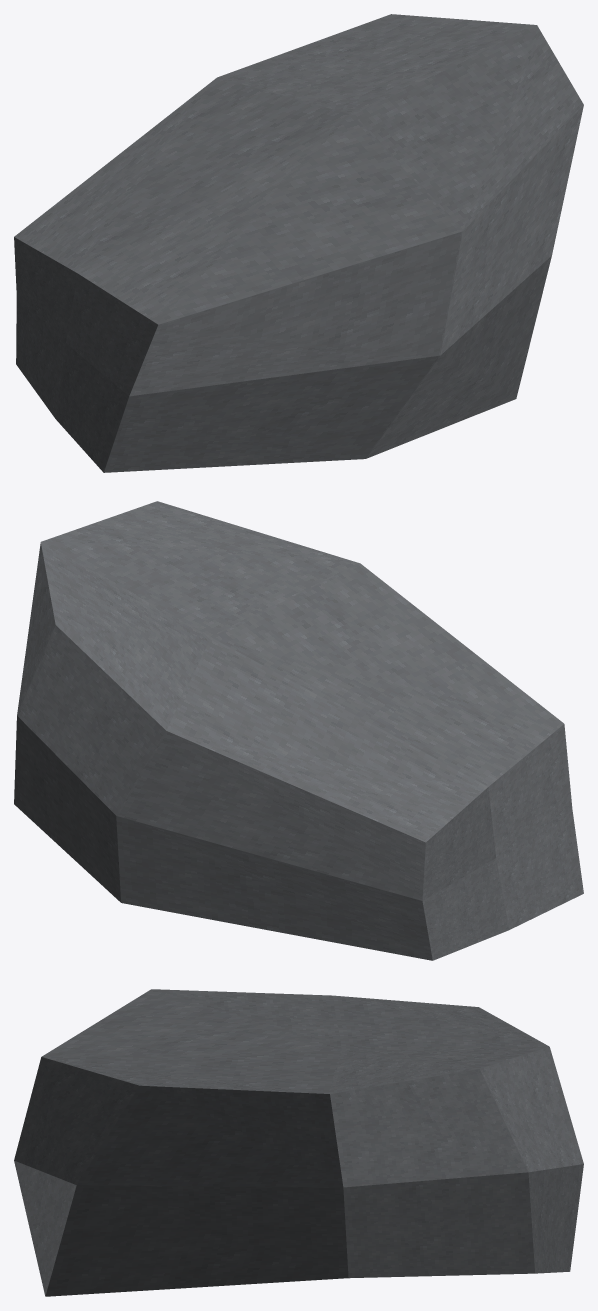
The model's file is Rock4.glb.
3 views of the same model, one above another, from view 1: azimuth 30°, elevation 25°; view 2: azimuth 150°, elevation 25°; view 3: azimuth 270°, elevation 25° (orthographic). The views are drawn at different scales.
Visible parts, largest first — view 1: Rock_13; view 2: Rock_13; view 3: Rock_13.
Part boxes in pixels (x1,y1,x2,y2): Rock_13: (14, 14, 583, 472); Rock_13: (14, 501, 583, 960); Rock_13: (14, 989, 583, 1296).
Size of the model in its own units: 4.48 by 2.47 by 3.91.
1 material, 1 textured.
